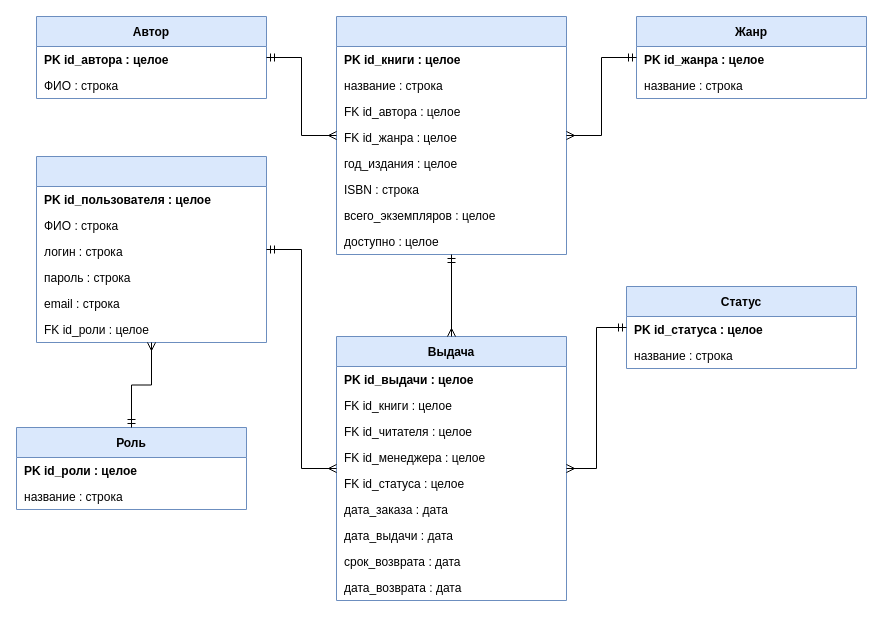
This 883x617 diagram has some shape labels left out. The box of each missing label's shape, as (x1, y1, x2, y2) in pixels:
Книга: (336, 16, 566, 254)
Пользователь: (36, 156, 266, 342)
